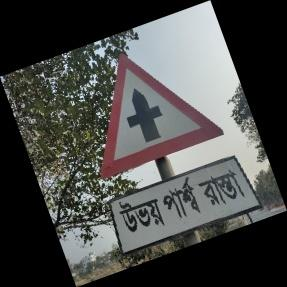Crossroad: (101, 53, 237, 250)
